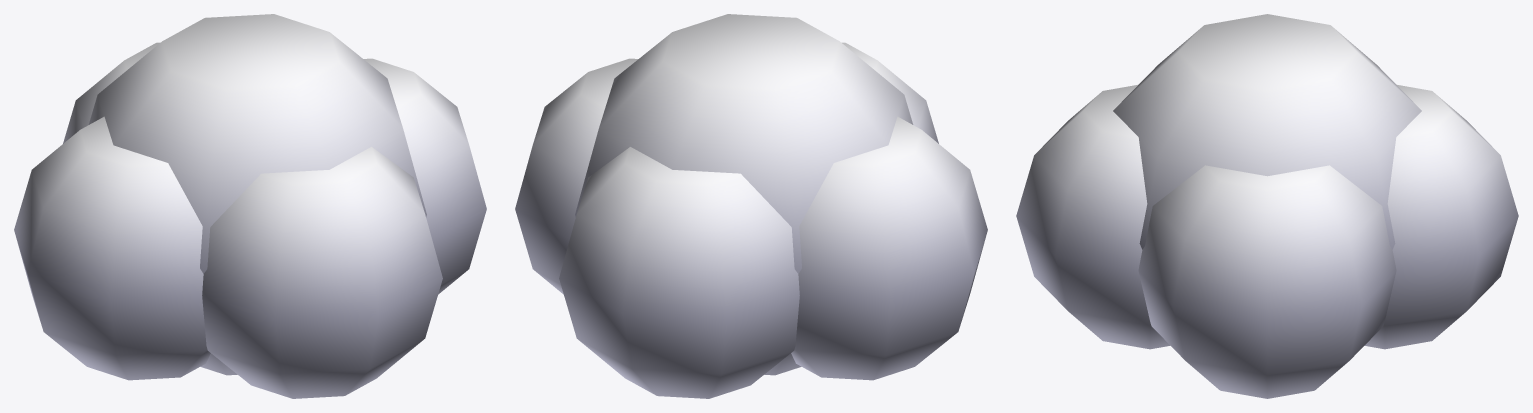
Rendered from explosion.glb.
3 views of the same model, side by side, from view 1: azimuth 30°, elevation 25°; view 2: azimuth 150°, elevation 25°; view 3: azimuth 270°, elevation 25° (orthographic). The views are drawn at different scales.
Parts seen in each view (by area): view 1: smoke; view 2: smoke; view 3: smoke.
Boxes of the visible parts, box(x1,y1,x2,y2) form: smoke: box(14, 14, 486, 398); smoke: box(515, 14, 987, 398); smoke: box(1016, 14, 1518, 398).
Bounding box in the file's own units: 0.277 × 0.1704 × 0.277.
Materials: 1 (1 with a texture image).
